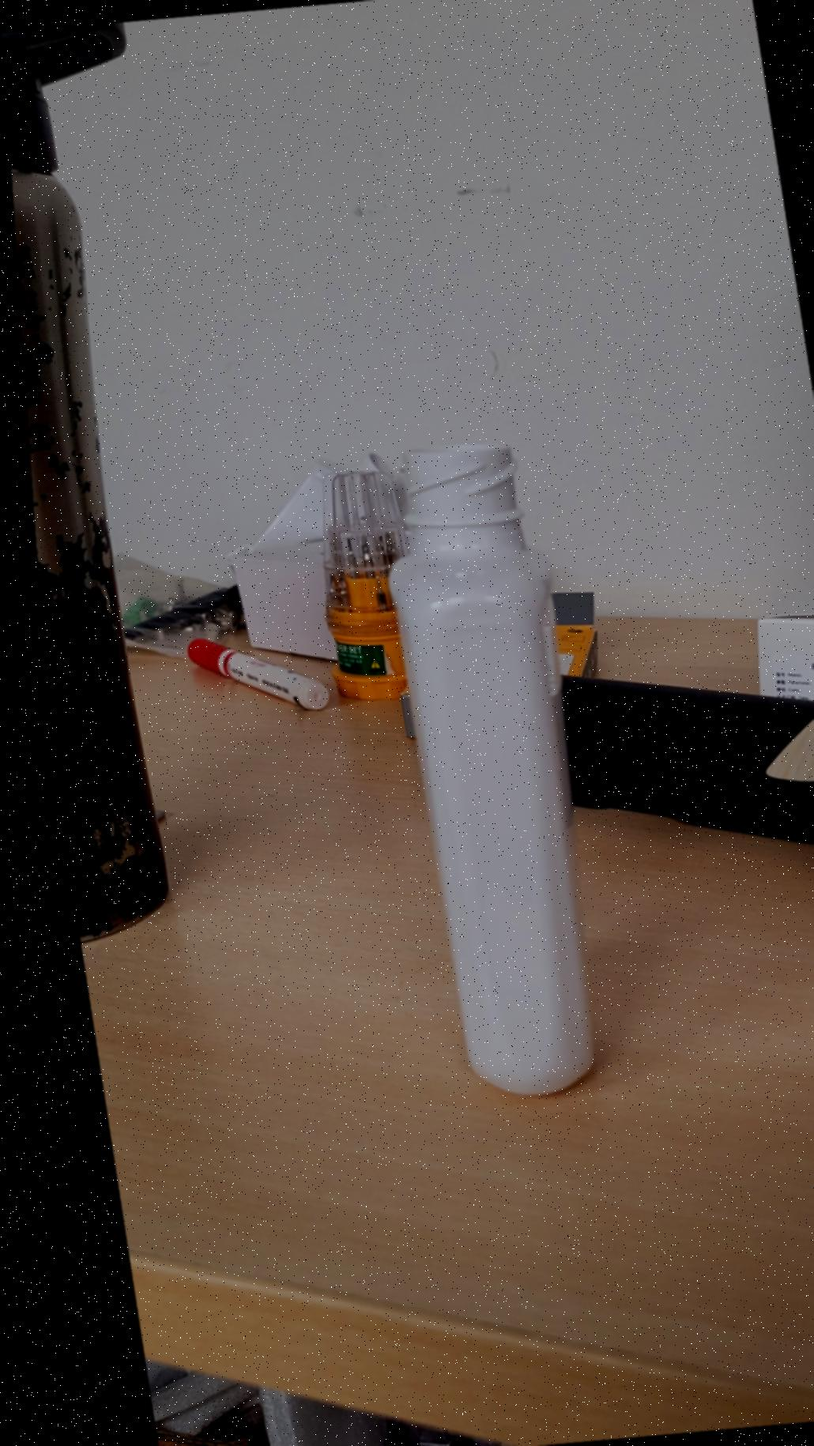bottle: (391, 444, 593, 1094)
